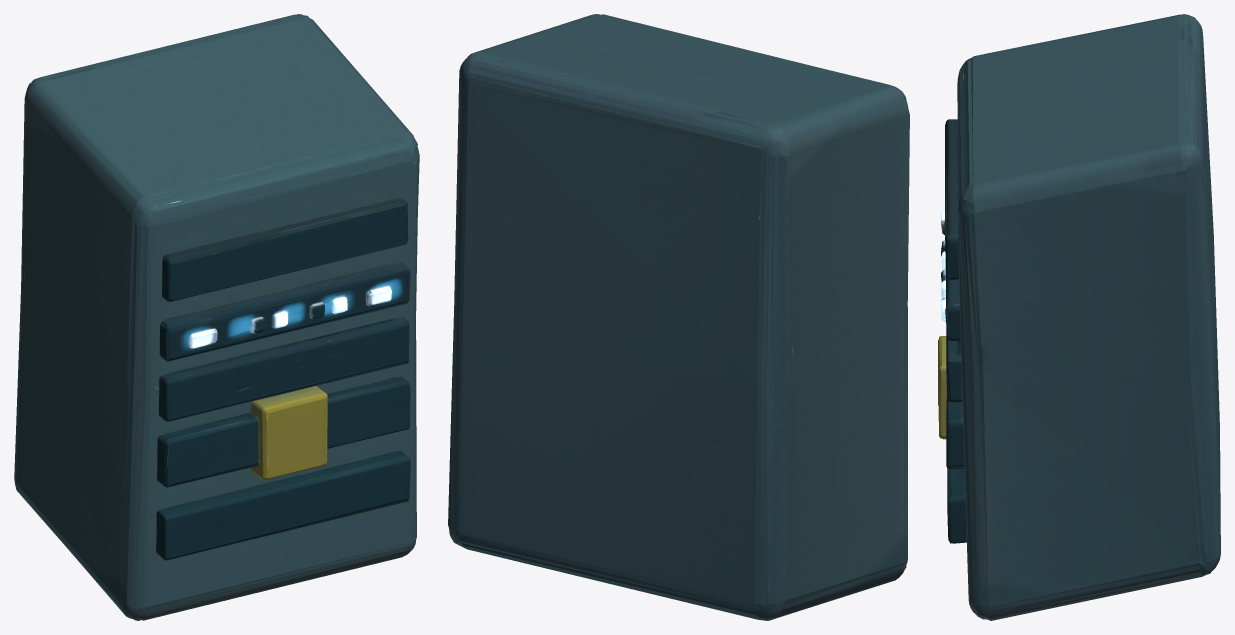
File: secure-switch.glb
3 views of the same model, side by side, from view 1: azimuth 30°, elevation 25°; view 2: azimuth 150°, elevation 25°; view 3: azimuth 270°, elevation 25° (orthographic). The views are drawn at different scales.
Bounding box in the file's own units: 0.6582 × 1 × 0.541.
Materials: 1 (1 with a texture image).
